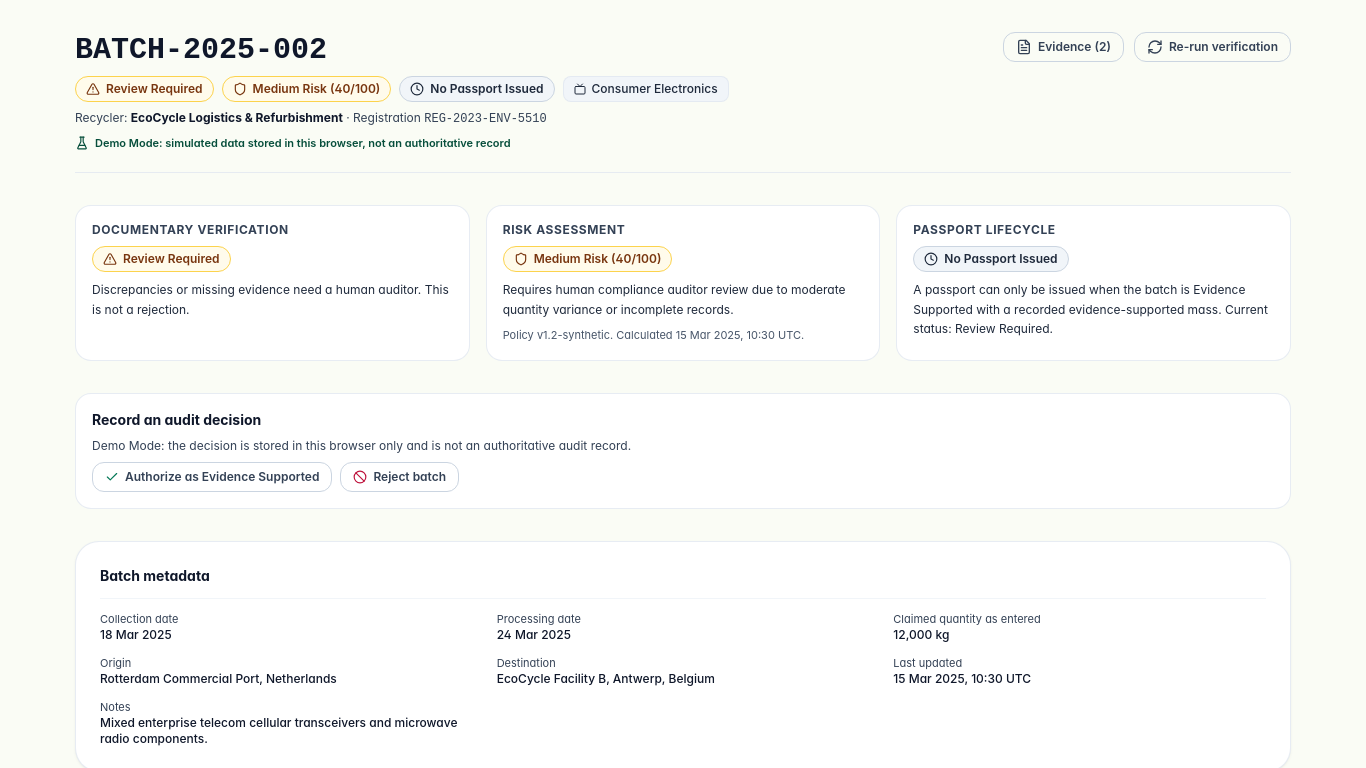
Batch detail › requires a justification before recording a decision
Expected: the heading "BATCH-2025-002" is shown, [75,33,327,67]
Step 1. Click the button "Reject batch" → (400, 477), box [340,462,459,492]
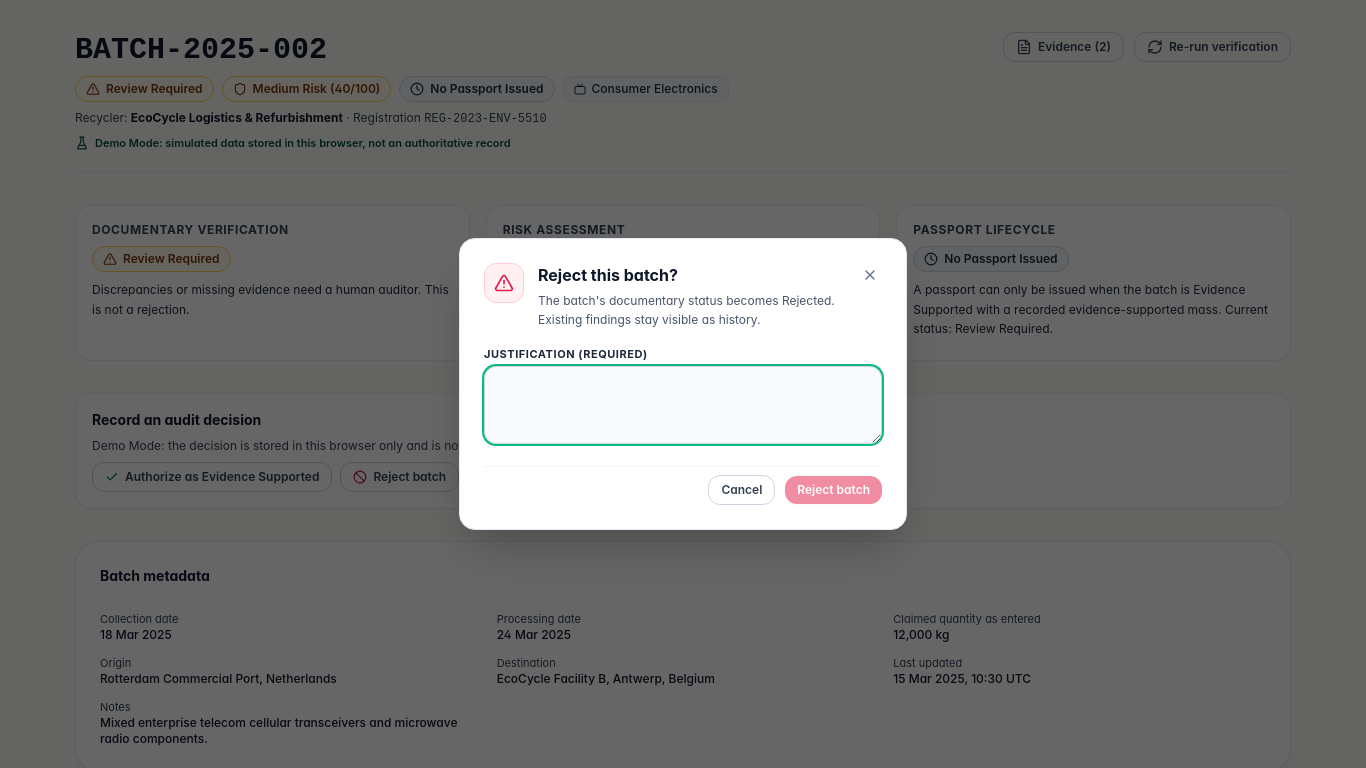
Expected: the button "Reject batch" is disabled, [785,476,882,504]
Step 2. Type "Fraud confirmed" into the text box labelled "Justification (required)" → (683, 405), box [484,366,882,444]
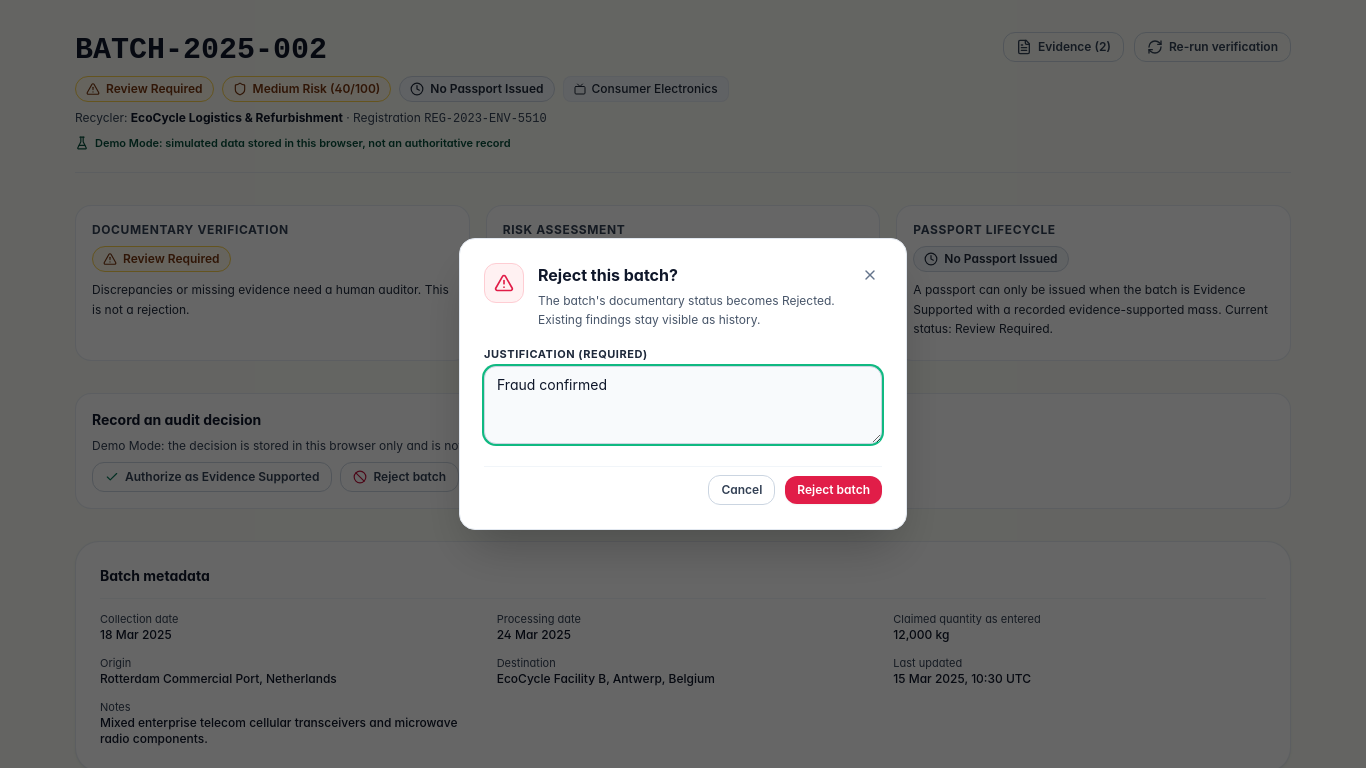
Step 3. Click the button "Reject batch" → (834, 490), box [785,476,882,504]
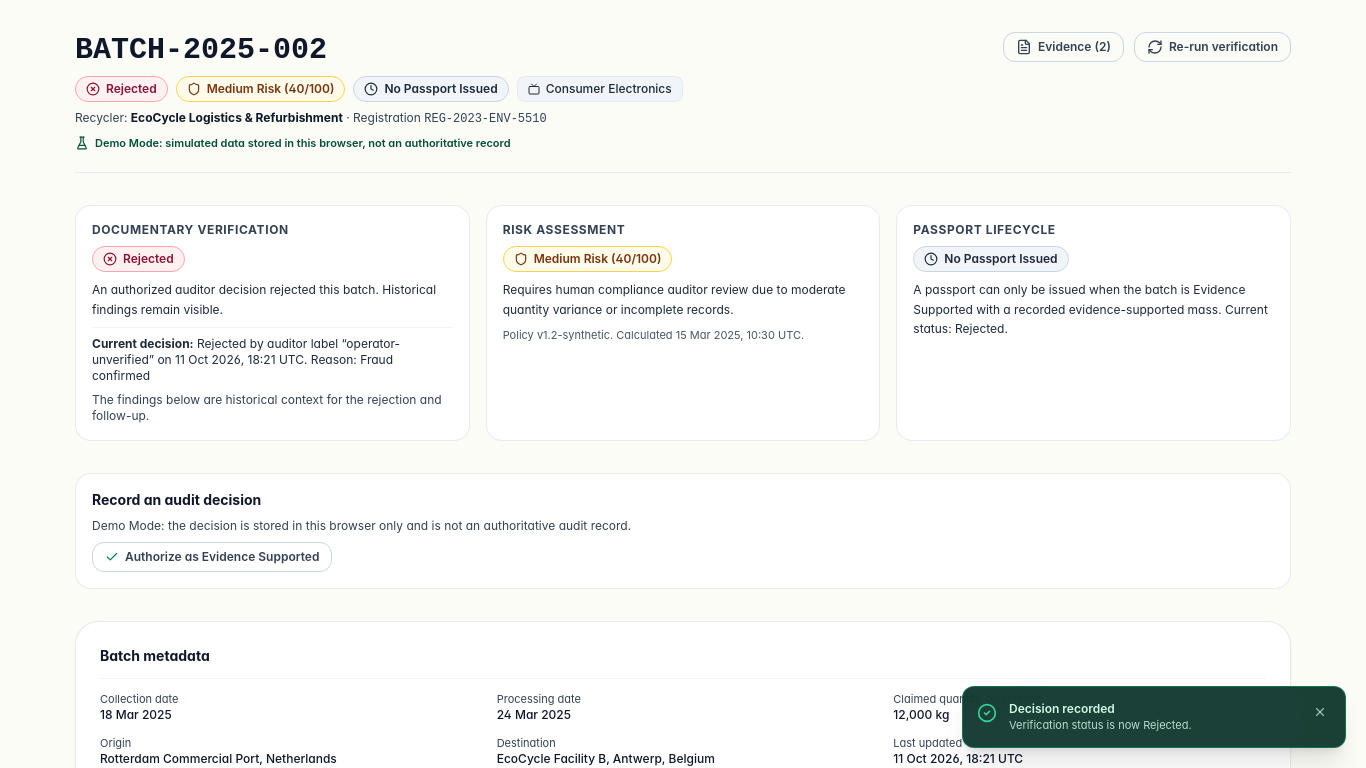
Expected: the text "Decision recorded" is shown, [1009,701,1115,716]
